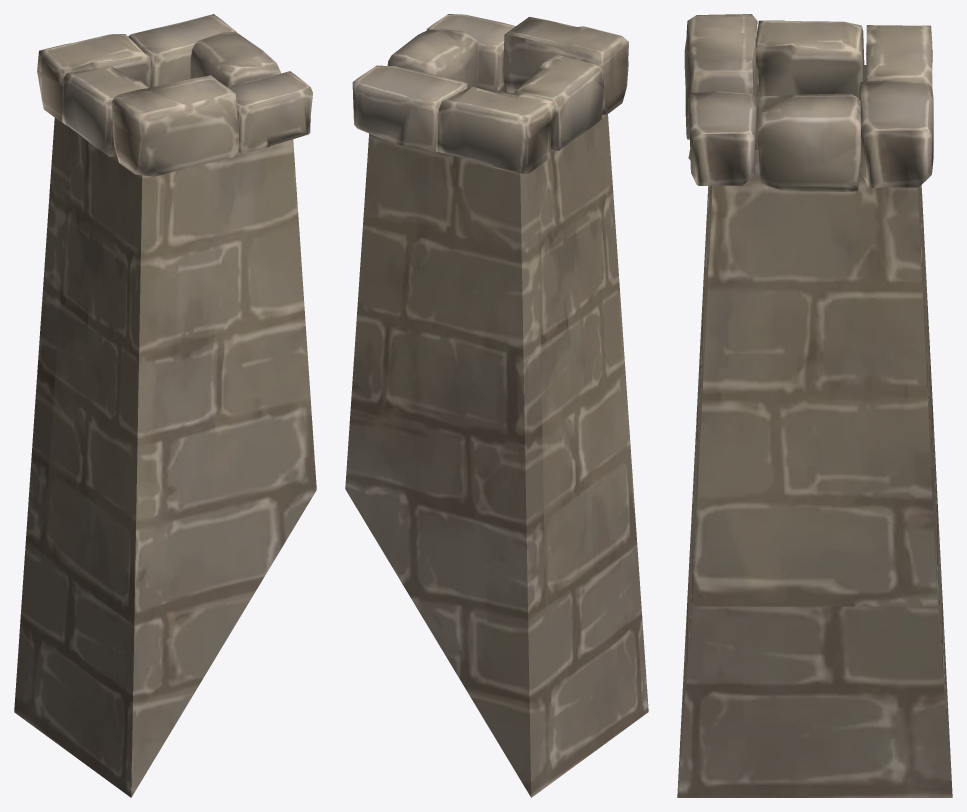
Rendered from Prop_Chimney.glb.
3 renders of one model, left to right at view 1: azimuth 30°, elevation 25°; view 2: azimuth 150°, elevation 25°; view 3: azimuth 270°, elevation 25°, orthographic. The views are drawn at different scales.
Parts seen in each view (by area): view 1: Prop_Chimney; view 2: Prop_Chimney; view 3: Prop_Chimney.
Boxes of the visible parts, <box> form: Prop_Chimney: <box>14,14,316,797</box>; Prop_Chimney: <box>345,14,648,797</box>; Prop_Chimney: <box>677,14,952,797</box>.
Size of the model in its own units: 0.9458 by 3.18 by 1.
Materials: 2 (2 with a texture image).
